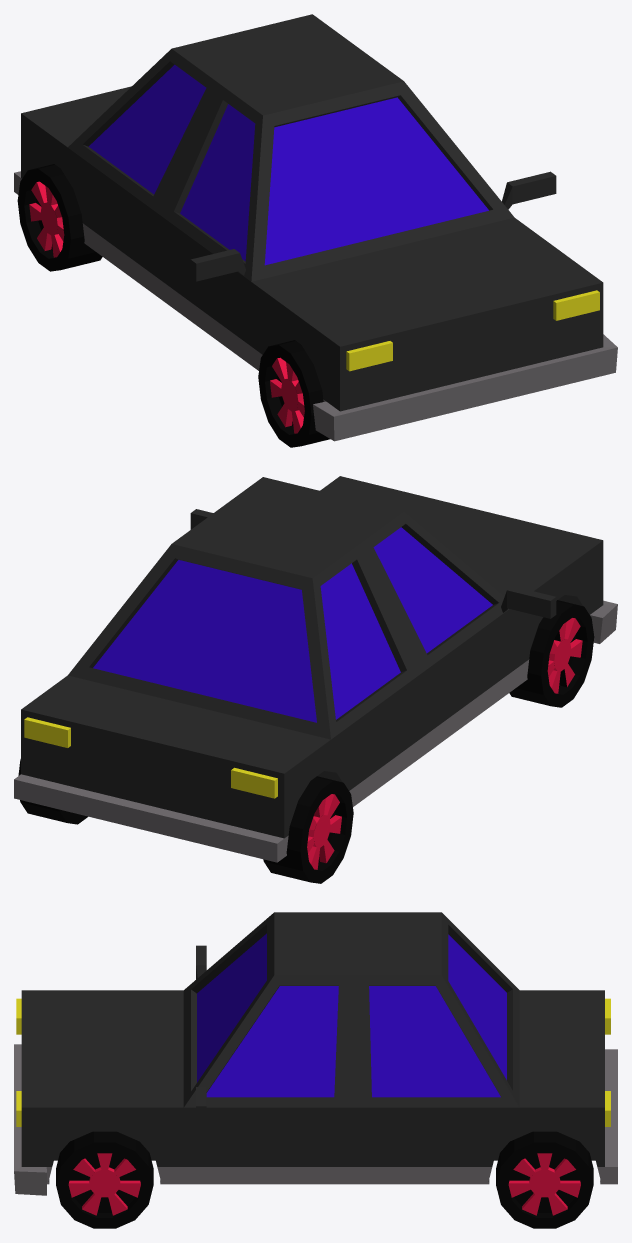
The model's file is Car.glb.
The picture shows the model from 3 angles, top to bottom: view 1: azimuth 30°, elevation 25°; view 2: azimuth 150°, elevation 25°; view 3: azimuth 270°, elevation 25°; orthographic projection. The views are drawn at different scales.
Parts seen in each view (by area): view 1: chassis, wheel_back_right, wheel_front_right, mirrors, front_lights; view 2: chassis, wheel_back_right, wheel_front_right, back_lights, mirrors, wheel_back_left; view 3: chassis, wheel_front_left, wheel_back_left, mirrors, front_lights, back_lights.
Boxes of the visible parts, x1,y1,x2,y2 form: chassis: (14,14,617,441); wheel_back_right: (17,164,102,271); wheel_front_right: (258,340,330,447); mirrors: (190,171,556,281); front_lights: (346,290,599,371); chassis: (14,476,617,862); wheel_back_right: (263,776,353,883); wheel_front_right: (509,600,594,707); back_lights: (24,717,277,798); mirrors: (190,509,556,618); wheel_back_left: (18,759,87,824); chassis: (14,912,617,1195); wheel_front_left: (56,1131,153,1228); wheel_back_left: (496,1131,593,1228); mirrors: (196,945,206,1122); front_lights: (16,998,21,1126); back_lights: (605,998,610,1126).
Size of the model in its own units: 2.73 by 1.76 by 4.34.
